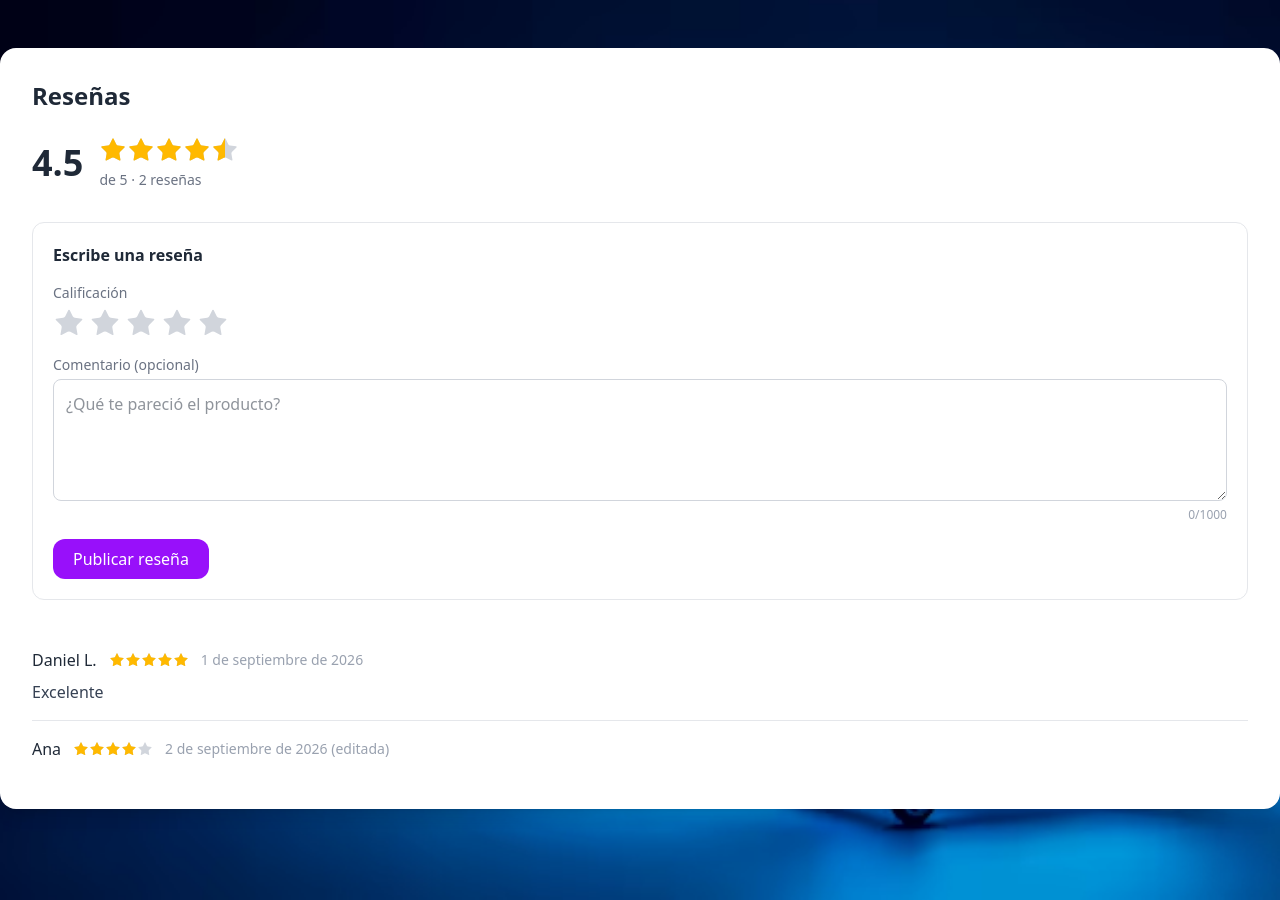
Scenario: ReviewsSection › asks for a star rating before posting, then posts
Click the button "Publicar reseña".
click(131, 559)  # box [53, 539, 209, 579]
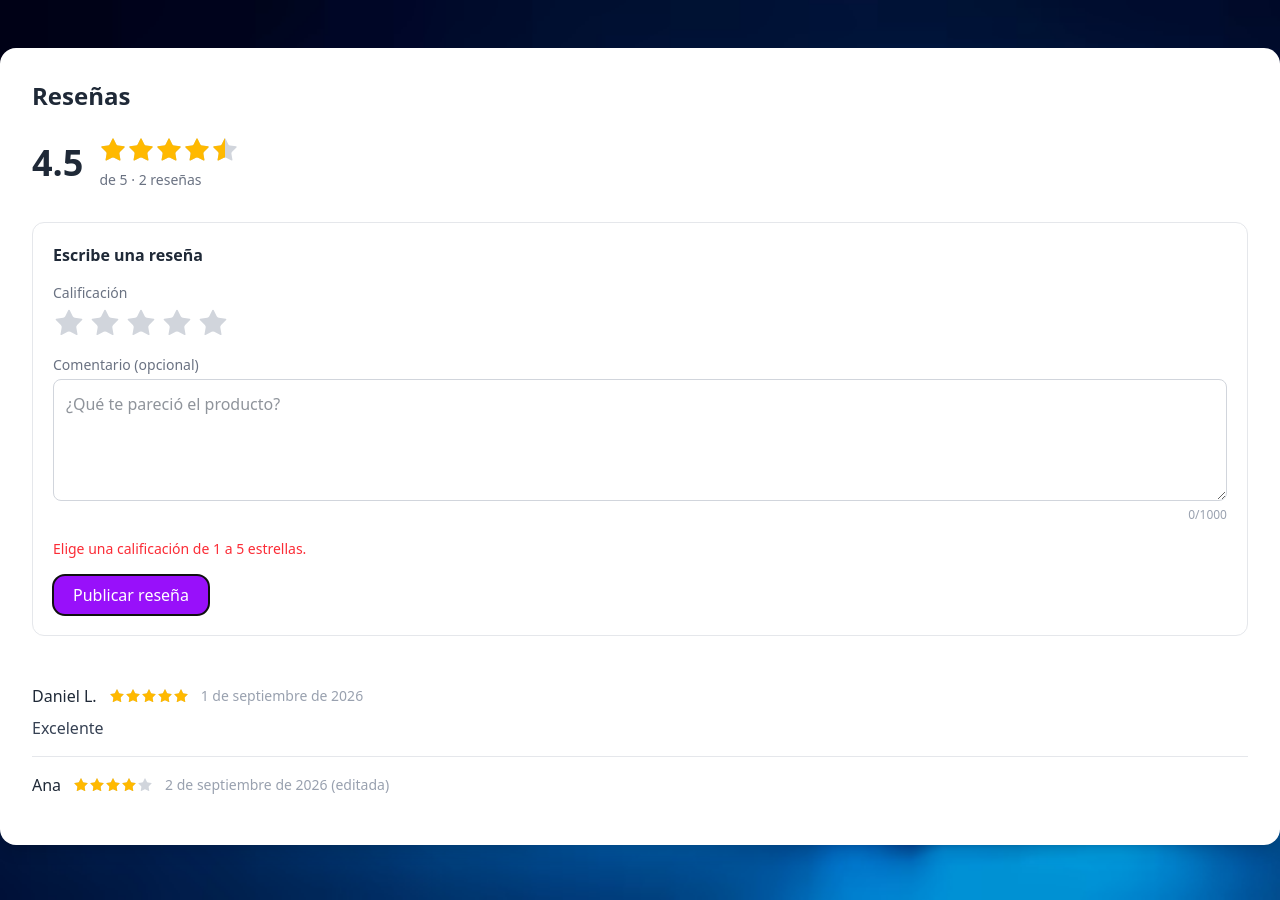
Check: the text "Elige una calificación de 1 a 5 estrellas." is shown, box [53, 539, 306, 558]
Click the button named "4 estrellas".
click(177, 323)  # box [161, 307, 193, 339]
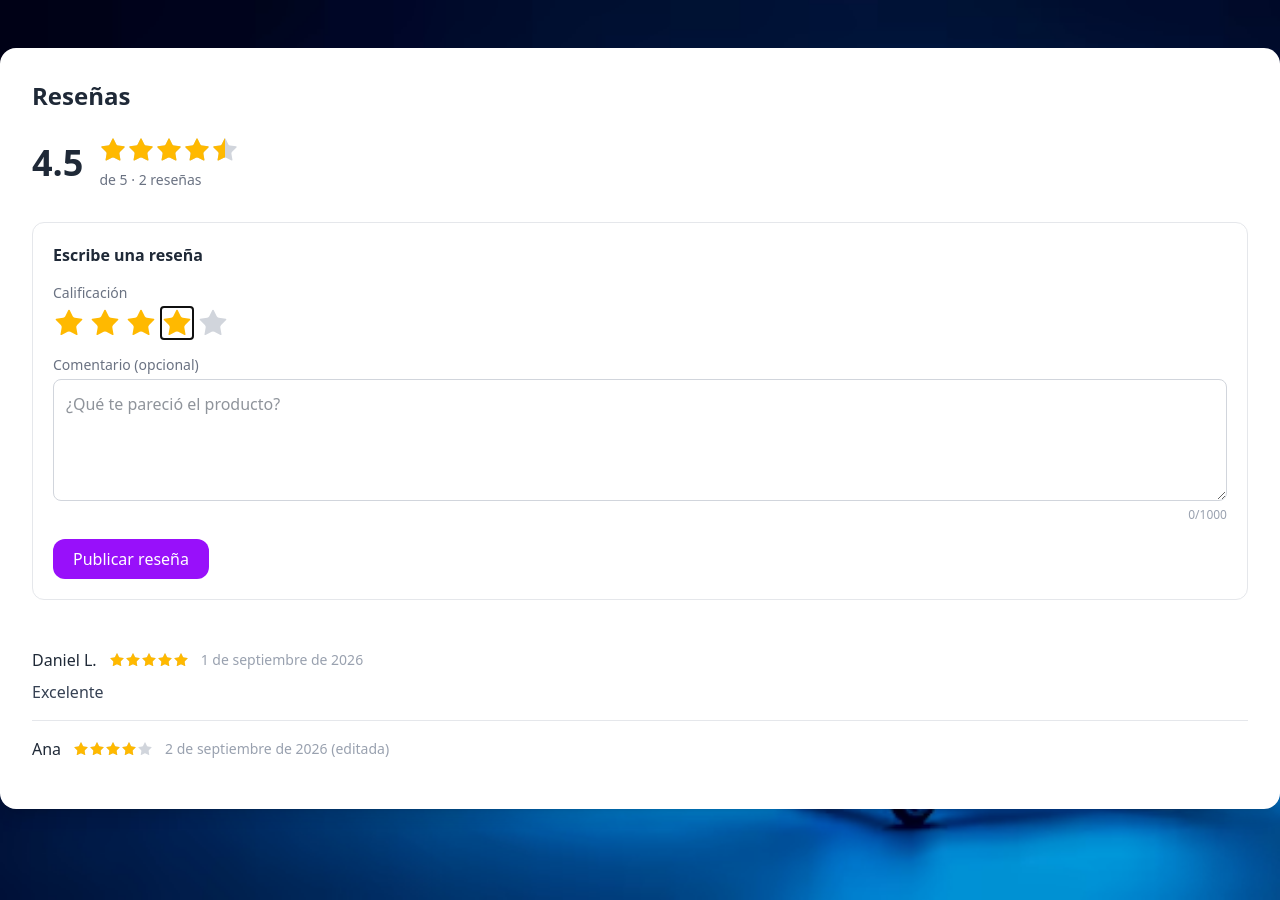
Check: the text "Elige una calificación de 1 a 5 estrellas." is gone
Type "  Muy buena  " into the text box labelled "Comentario (opcional)".
click(640, 440); type("  Muy buena  ")  # box [53, 379, 1227, 501]
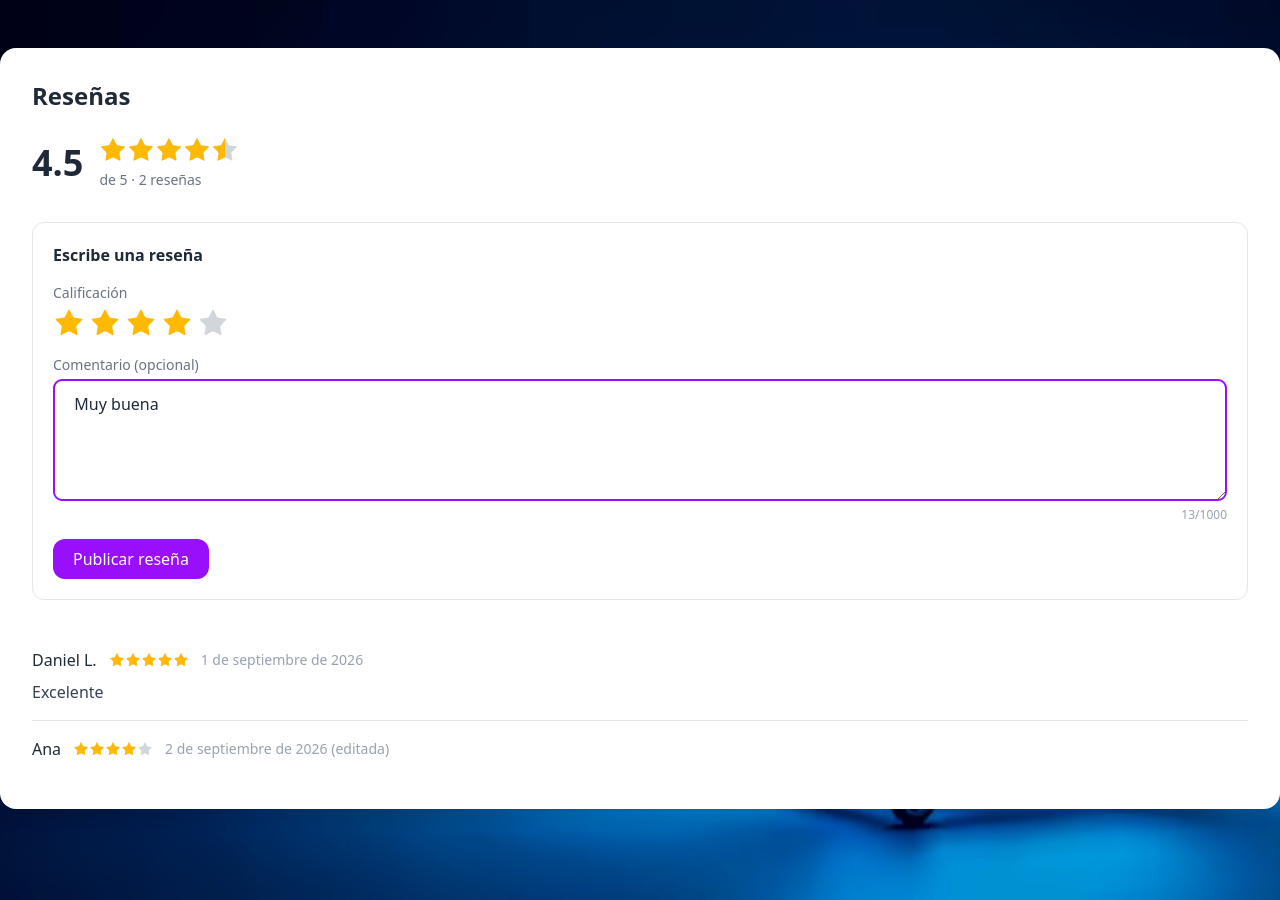
Click the button "Publicar reseña".
click(131, 559)  # box [53, 539, 209, 579]
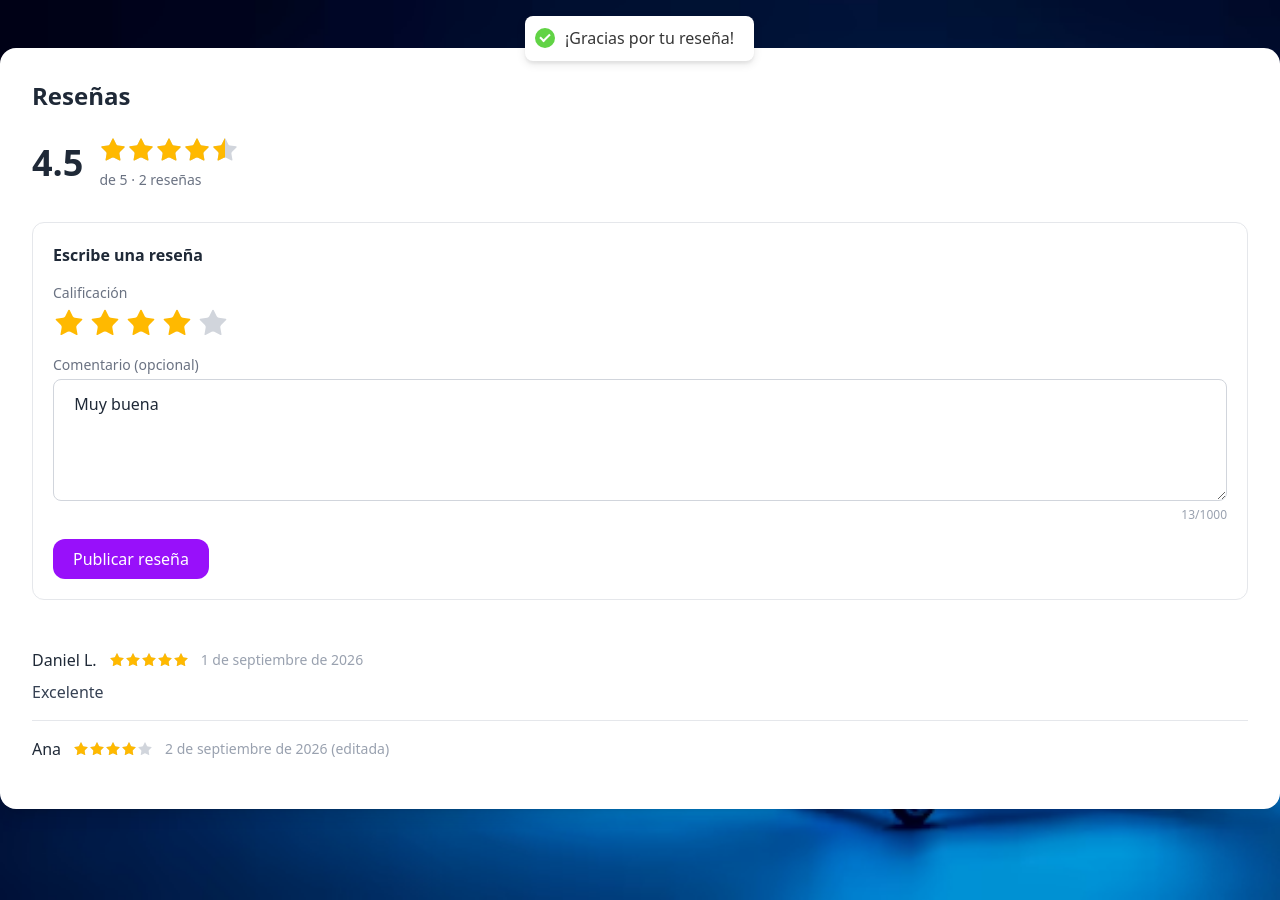
Check: the text "¡Gracias por tu reseña!" is shown, box [565, 28, 734, 49]
